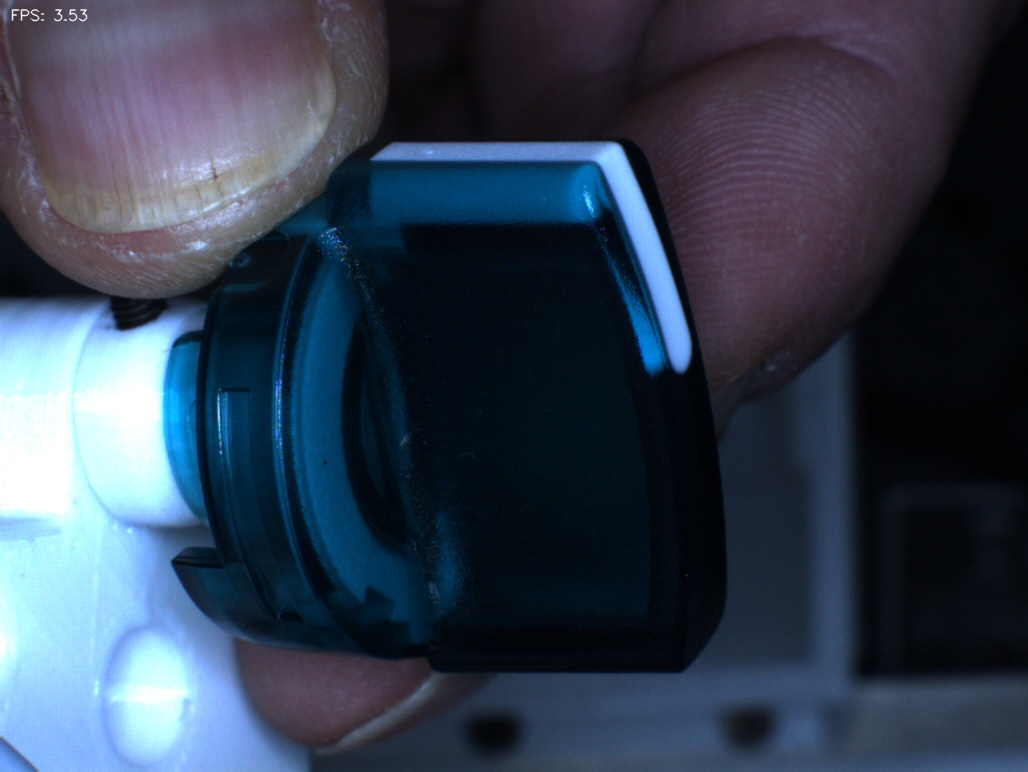PointNoir: (294, 420, 356, 497)
